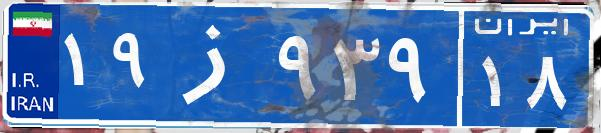1: (57, 26, 110, 107), (475, 38, 525, 113)
3: (330, 28, 385, 110)
8: (525, 38, 570, 115)
9: (385, 28, 445, 110), (273, 28, 330, 110), (110, 28, 158, 105)
ز: (158, 15, 273, 115)
